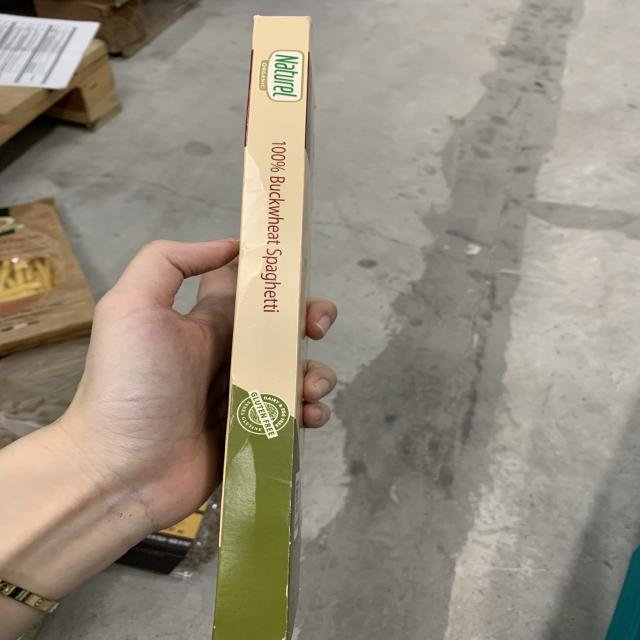object_name: (253, 19, 295, 640)
